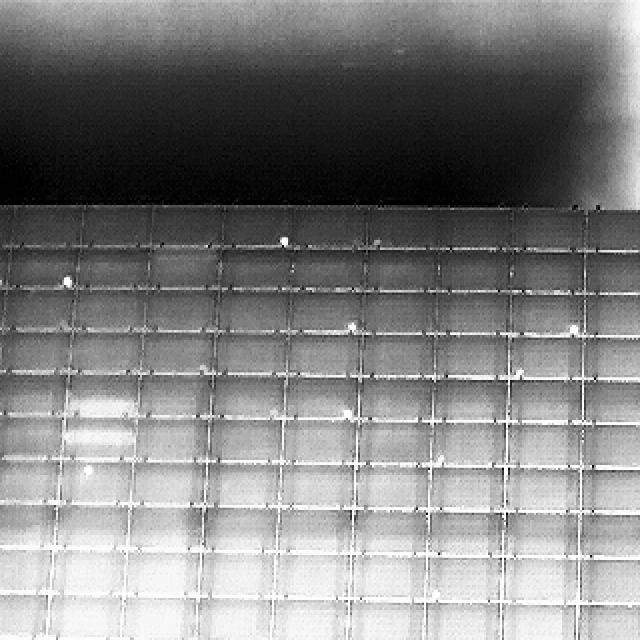Hotspots: (336, 397, 358, 421), (76, 462, 96, 483), (58, 271, 78, 288), (506, 362, 526, 378), (564, 321, 584, 336), (346, 317, 360, 333), (432, 588, 442, 602), (275, 235, 288, 245), (582, 632, 594, 640), (638, 318, 640, 338)
PV-modules: (123, 546, 199, 596), (350, 510, 428, 558), (428, 467, 505, 515), (49, 548, 124, 597), (130, 503, 205, 552), (424, 555, 502, 602), (506, 467, 582, 515), (502, 513, 578, 561), (351, 554, 428, 601), (200, 509, 277, 556), (426, 514, 504, 560), (432, 376, 510, 422), (290, 250, 368, 296), (358, 420, 434, 467), (278, 510, 352, 558), (280, 418, 354, 466), (363, 250, 440, 296), (508, 420, 585, 466), (273, 552, 351, 597), (360, 290, 438, 335), (70, 286, 146, 332), (289, 206, 372, 248), (502, 556, 576, 603), (432, 421, 506, 468), (356, 465, 430, 512), (216, 285, 290, 332), (212, 372, 287, 418), (200, 550, 275, 596), (204, 463, 279, 509), (435, 334, 510, 380), (270, 597, 350, 640), (344, 597, 424, 640), (0, 205, 80, 248), (74, 248, 152, 292), (138, 416, 211, 463), (139, 372, 213, 418), (360, 375, 434, 421), (512, 206, 586, 252), (365, 206, 444, 249), (508, 381, 583, 426), (146, 285, 216, 333), (287, 333, 360, 379), (53, 504, 126, 550), (216, 248, 289, 294), (3, 285, 74, 332), (44, 595, 118, 640), (118, 595, 192, 640), (209, 418, 283, 463), (282, 465, 356, 510), (439, 251, 513, 296), (359, 334, 434, 378), (0, 248, 75, 292), (438, 290, 511, 335), (192, 597, 268, 640), (133, 463, 205, 508), (282, 376, 354, 421), (510, 335, 582, 380), (576, 555, 640, 605), (140, 333, 216, 375), (65, 417, 137, 461), (214, 332, 289, 374), (58, 462, 129, 506), (288, 288, 359, 332), (69, 371, 140, 415), (78, 206, 154, 247), (444, 206, 516, 249), (2, 370, 69, 416), (511, 294, 581, 338), (510, 253, 583, 295), (153, 205, 227, 246), (580, 468, 640, 518), (578, 515, 640, 563), (152, 248, 221, 291), (580, 380, 640, 428), (2, 332, 72, 373), (218, 205, 288, 246), (71, 333, 142, 373), (426, 602, 500, 640), (0, 414, 61, 460), (582, 205, 640, 253), (500, 602, 572, 640), (0, 461, 58, 508), (580, 420, 640, 465), (582, 335, 640, 380), (0, 499, 52, 548), (580, 253, 640, 295), (580, 293, 640, 335), (0, 548, 50, 597), (576, 605, 640, 640), (0, 592, 46, 640), (38, 635, 116, 640), (116, 637, 190, 640), (0, 635, 42, 640)
